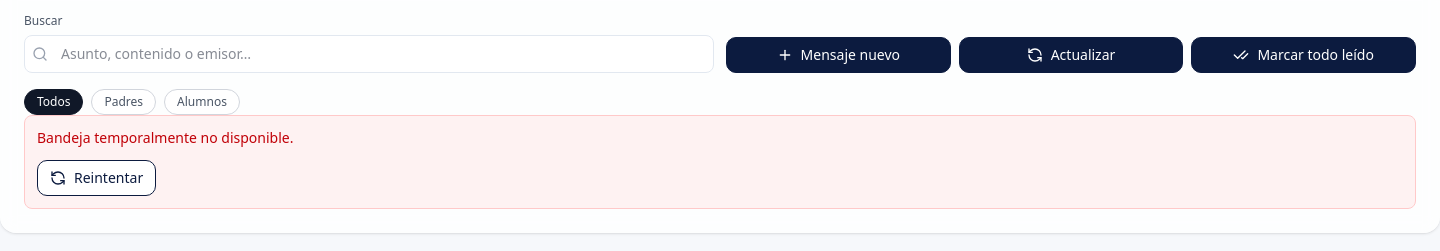
Scenario: MensajesPage resilience › muestra el error HTTP y recupera la bandeja al reintentar
This screenshot has width=1440, height=251.
Expected: the text "Bandeja temporalmente no disponible." is shown, [37,128,293,147]
Expected: the text "No hay mensajes recibidos." is not shown
Click the button "Reintentar" at {"x": 97, "y": 178}, box [37,160,156,196]
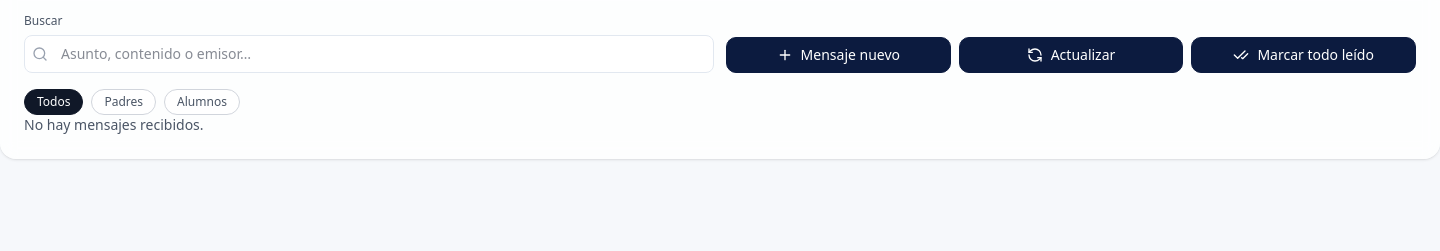
Expected: the text "No hay mensajes recibidos." is shown, [24,115,204,134]
